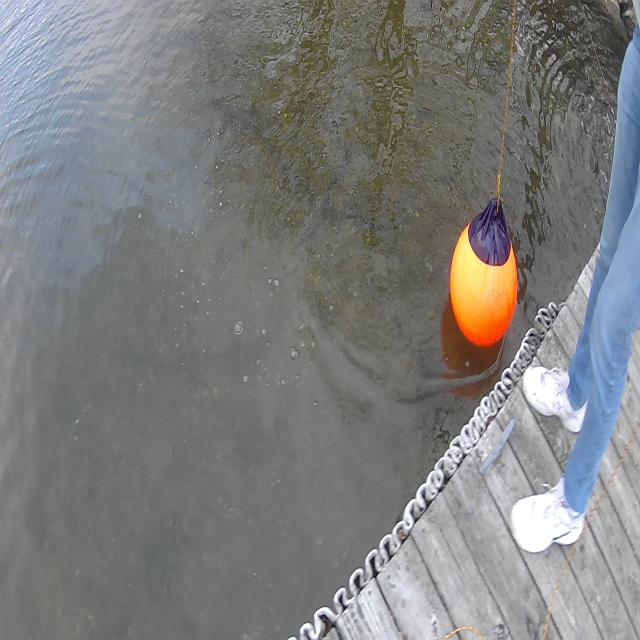Buoy: (436, 173, 529, 370)
